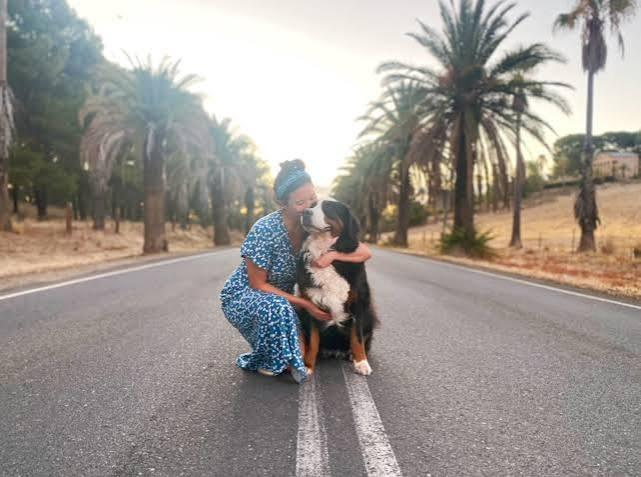adult_dog: (294, 199, 380, 379)
